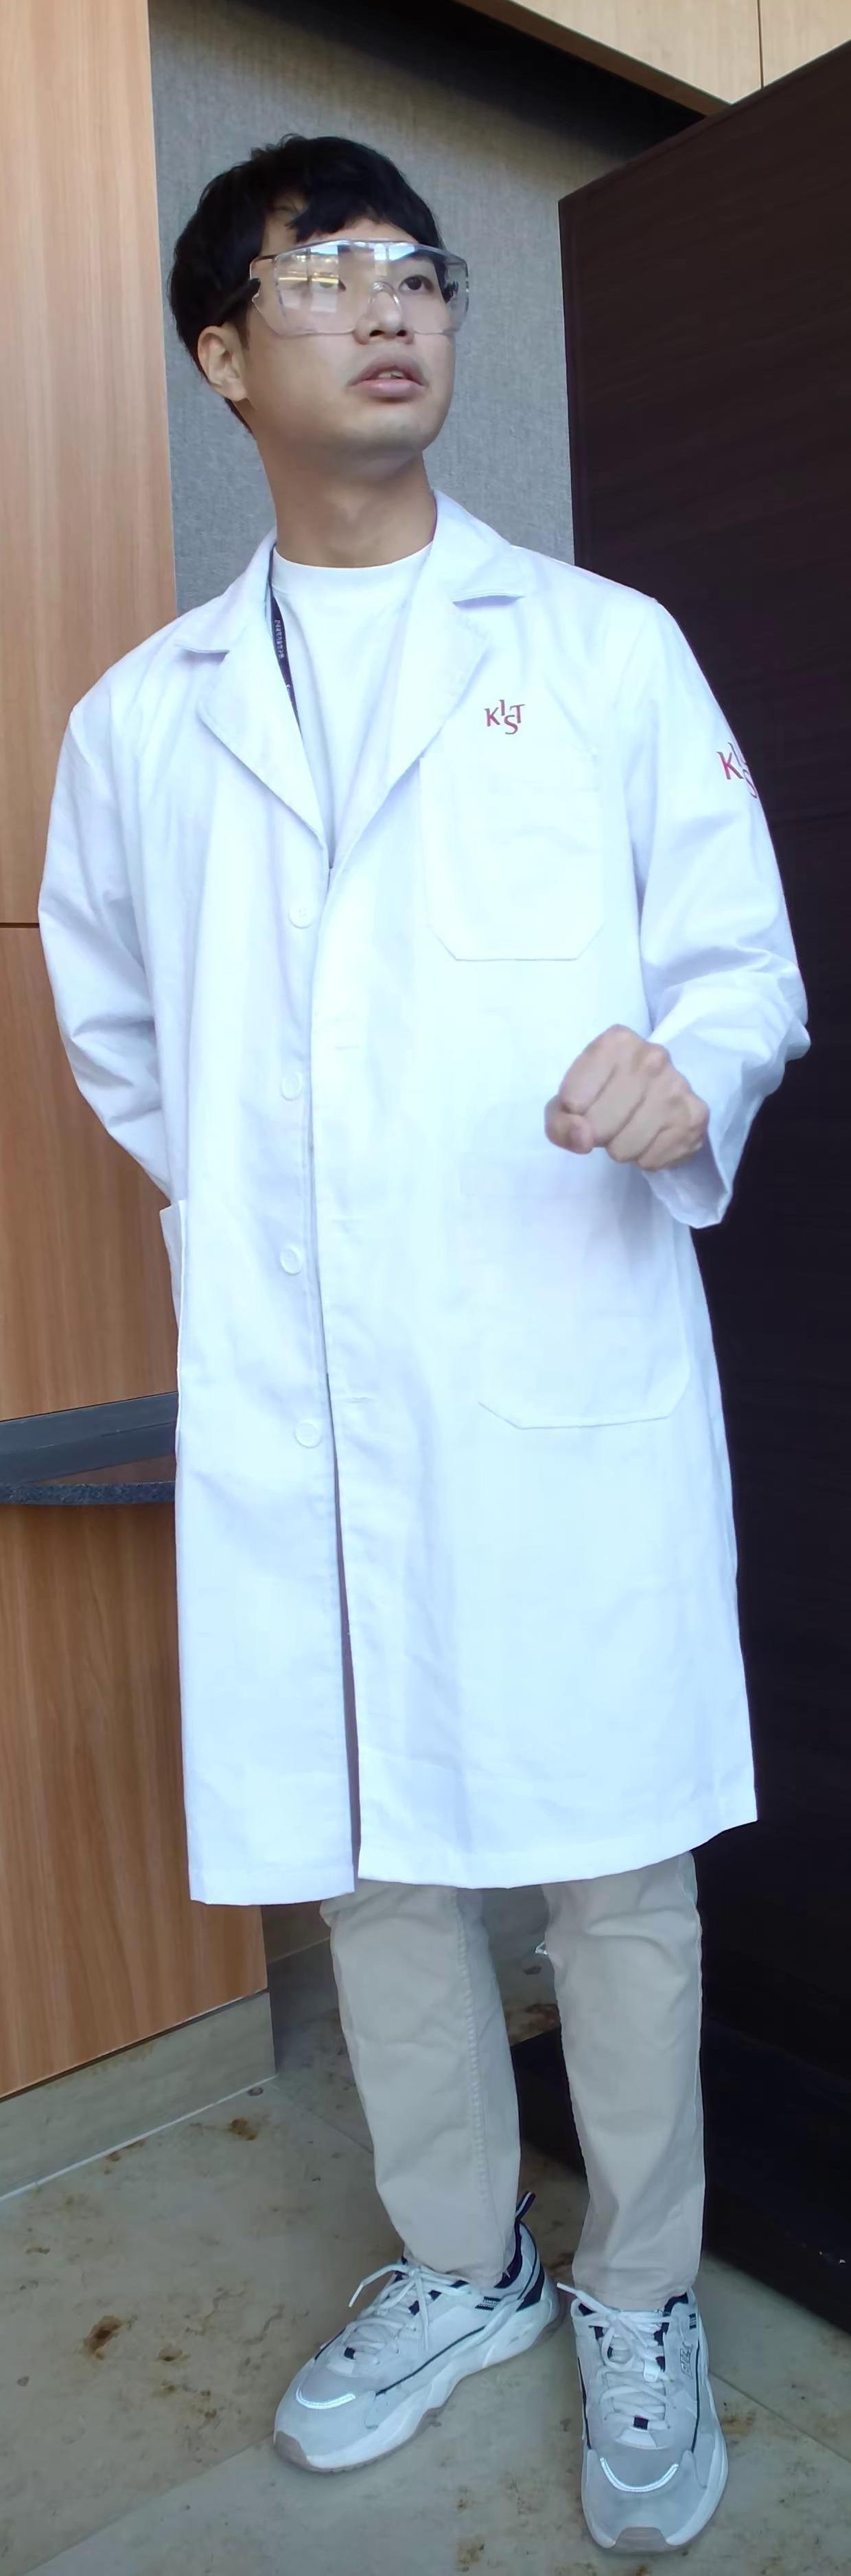lab_coat: (30, 619, 659, 1896)
